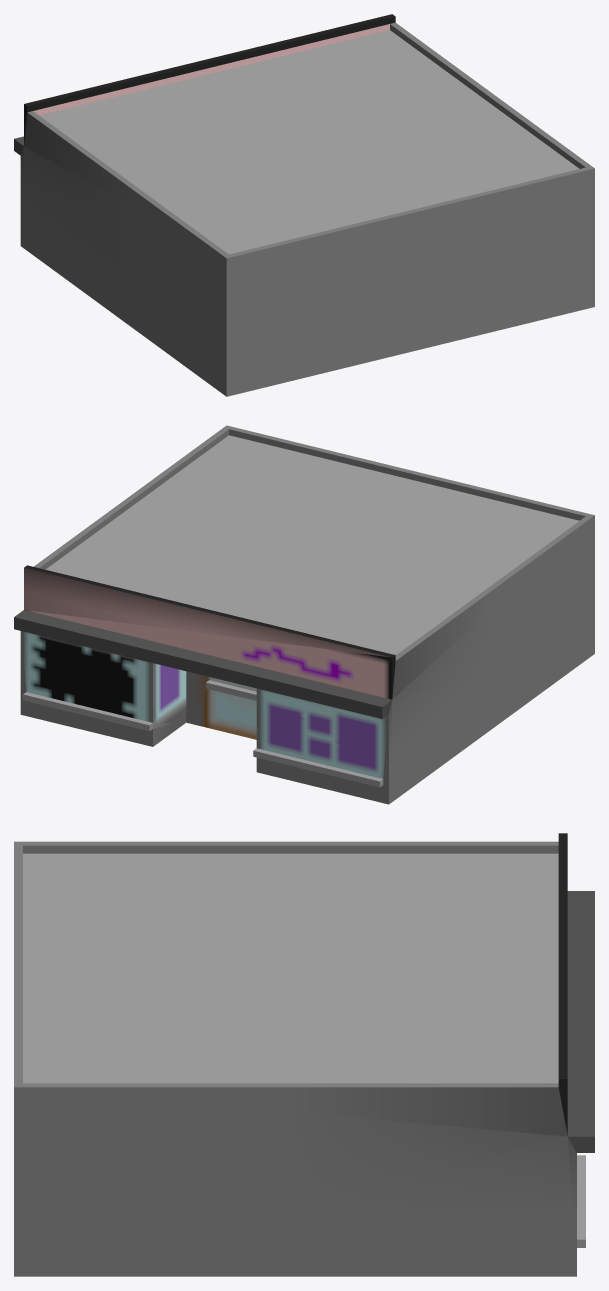
File: obj_store03a.fbx
3 renders of one model, top to bottom at view 1: azimuth 30°, elevation 25°; view 2: azimuth 150°, elevation 25°; view 3: azimuth 270°, elevation 25°, orthographic. The views are drawn at different scales.
Parts seen in each view (by area): view 1: obj_store03a; view 2: obj_store03a; view 3: obj_store03a.
Boxes of the visible parts, x1,y1,x2,y2 form: obj_store03a: (14,14,594,396); obj_store03a: (14,425,594,804); obj_store03a: (14,833,594,1276).
Bounding box in the file's own units: 6.4 × 6.4 × 2.4.
Materials: 1 (1 with a texture image).
